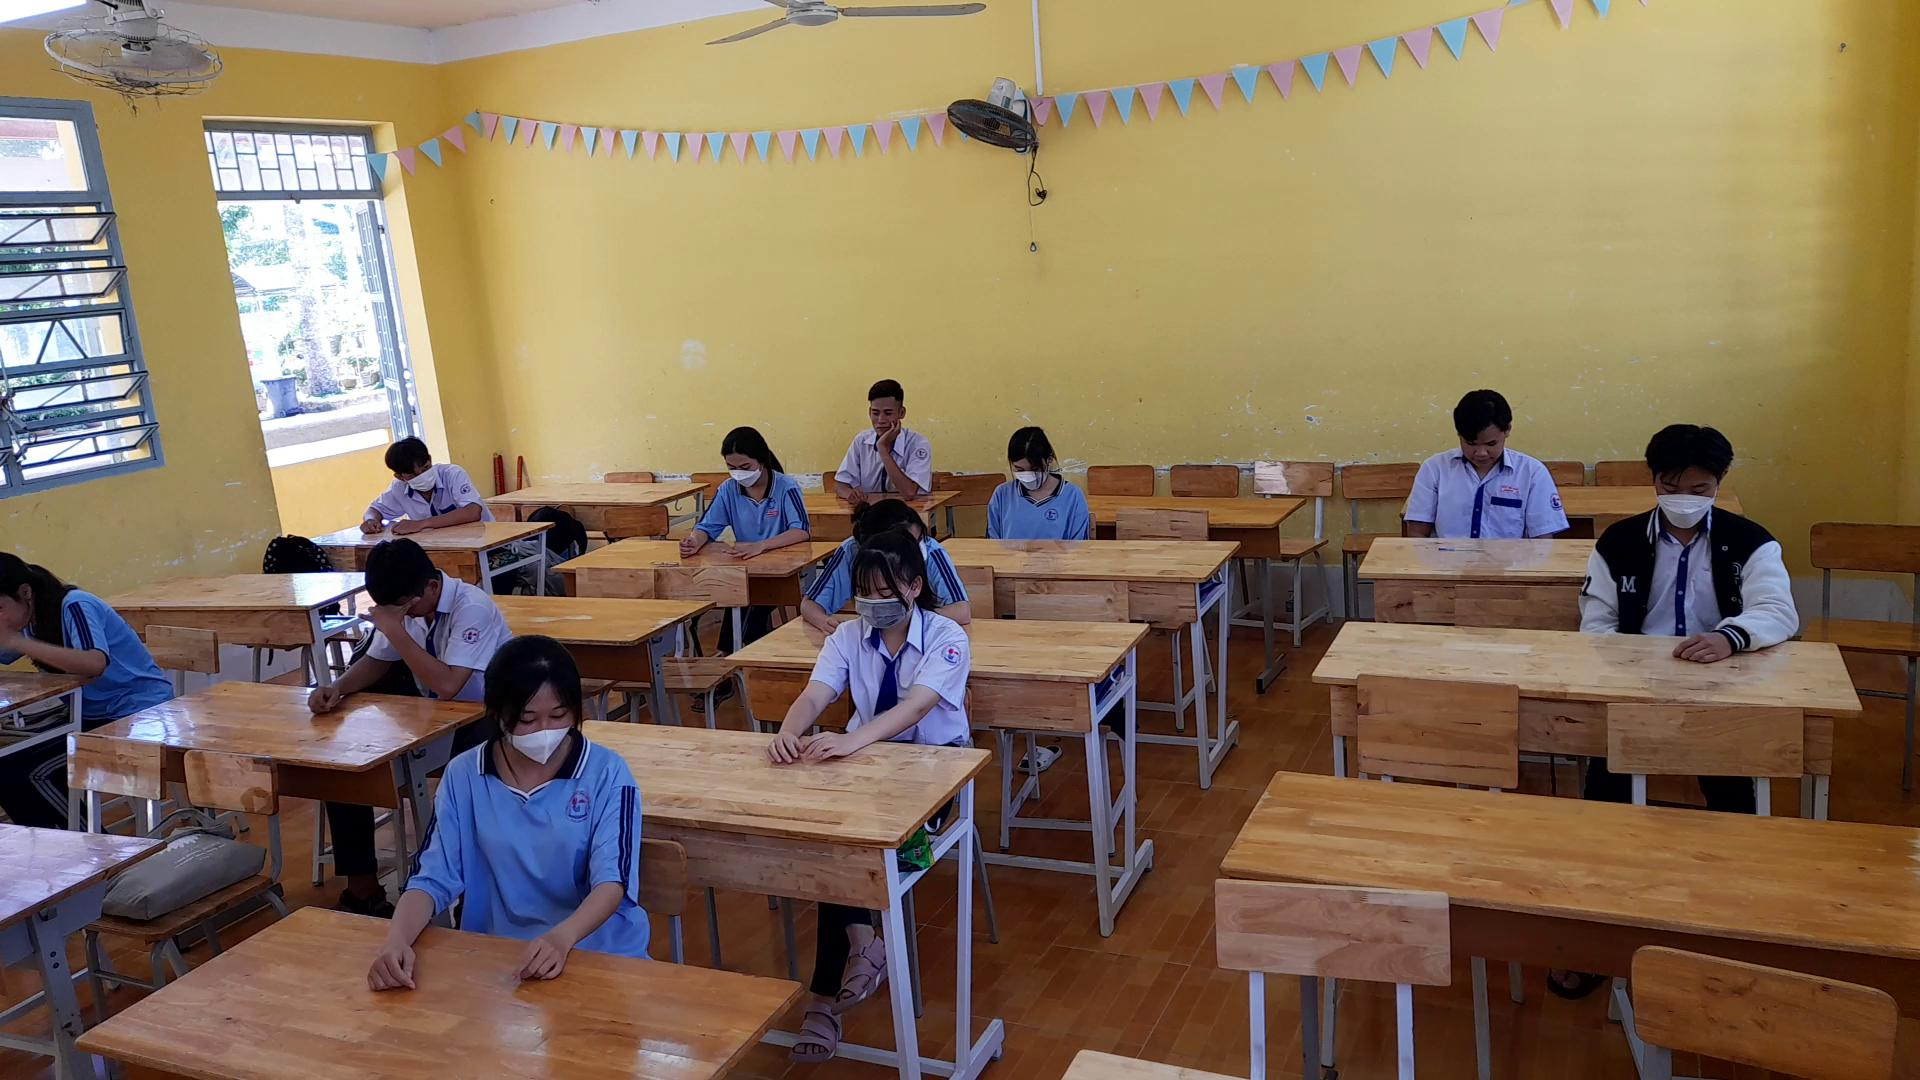Bend Over The Desk: (460, 626, 595, 769), (1634, 413, 1747, 535), (1427, 382, 1539, 473), (981, 409, 1092, 500), (347, 535, 459, 625)
Hand Under Table: (1575, 506, 1635, 647), (1514, 454, 1565, 553), (1393, 444, 1443, 543), (1059, 483, 1096, 549), (975, 480, 1011, 546)
Look Around: (367, 422, 450, 498)
Normal: (752, 522, 985, 779), (662, 411, 818, 558)
Wave: (359, 595, 479, 698), (869, 418, 938, 502)
